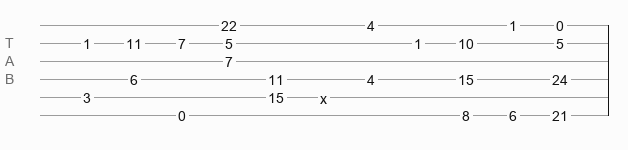0: (178, 108, 186, 118), (556, 18, 564, 28)
1: (83, 36, 91, 46), (414, 36, 422, 46), (509, 18, 517, 28)
10: (458, 36, 474, 46)
11: (126, 36, 142, 46), (268, 72, 284, 82)
15: (268, 90, 284, 100), (458, 72, 474, 82)
21: (552, 108, 568, 118)
22: (221, 18, 237, 28)
24: (552, 72, 568, 82)
3: (83, 90, 91, 100)
4: (367, 72, 375, 82), (367, 18, 375, 28)
5: (225, 36, 233, 46), (556, 36, 564, 46)
6: (130, 72, 138, 82), (509, 108, 517, 118)
7: (178, 36, 186, 46), (225, 54, 233, 64)
8: (462, 108, 470, 118)
x: (320, 91, 327, 99)
